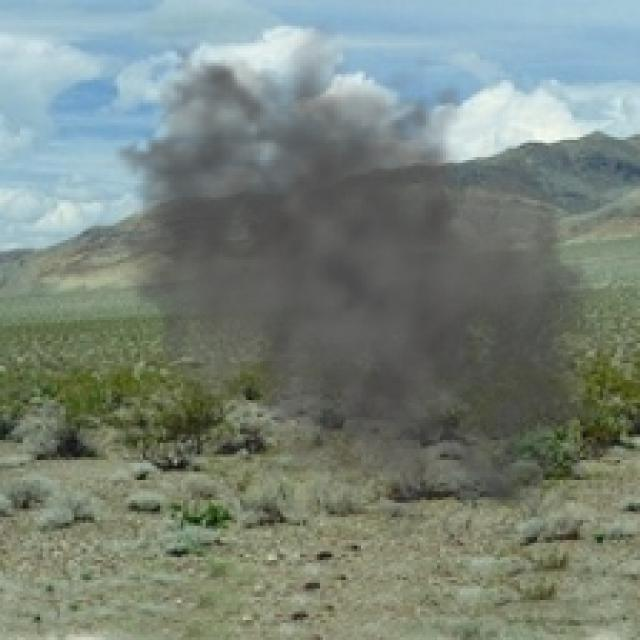smoke: (80, 20, 637, 551)
